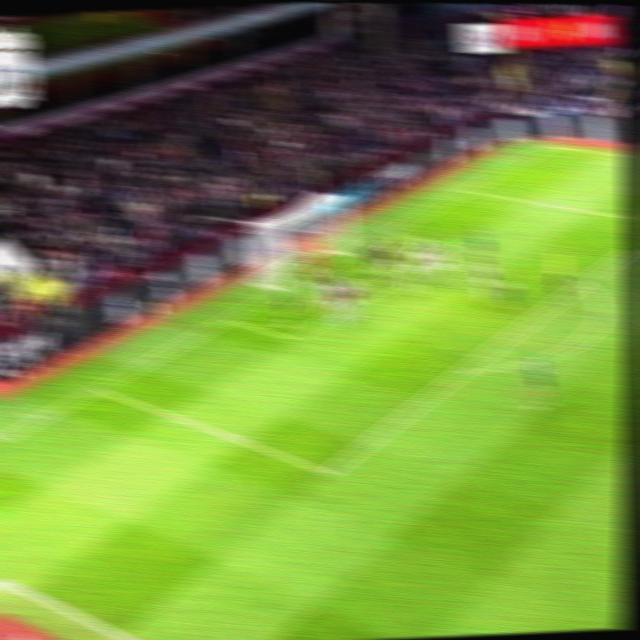bigarea_bottom_inner: (317, 464, 340, 483)
bigarea_bottom_outter: (87, 379, 109, 398)
bigarea_top_outter: (457, 183, 476, 199)
bottom_arc_area_intersection: (450, 360, 476, 384)
corner: (538, 142, 557, 151)
smallarea_bottom_inner: (282, 329, 303, 351)
smallarea_bottom_outter: (218, 312, 238, 327)
smallarea_top_inner: (438, 237, 459, 257)
smallarea_top_outter: (379, 225, 397, 239)
top_arc_area_intersection: (571, 272, 595, 294)
